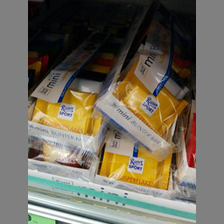chocolate: (28, 43, 112, 146), (113, 23, 187, 138)
